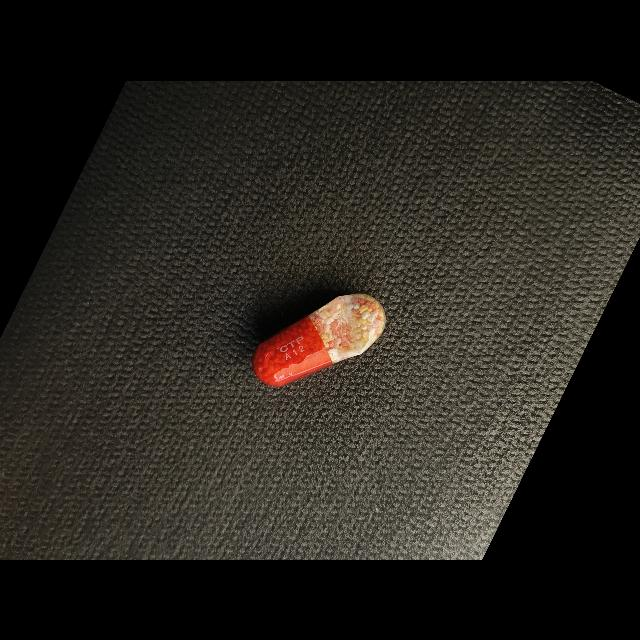Defective Capsule: (252, 293, 386, 386)
